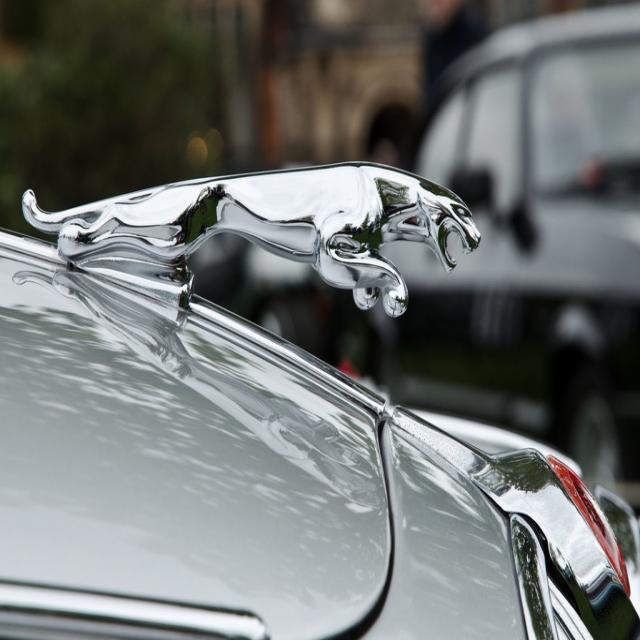car: (0, 120, 630, 638)
